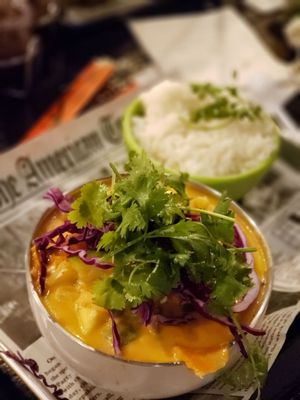sushi: (27, 146, 263, 398)
